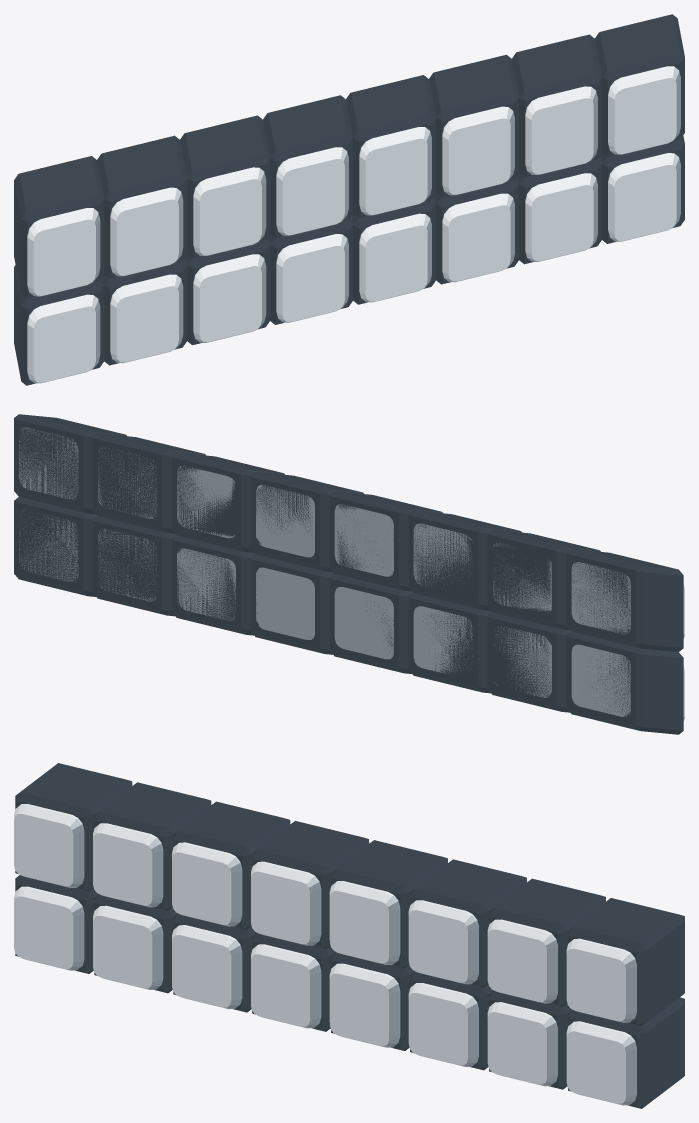
The model's file is Terrain_Block8x2.gltf.
The picture shows the model from 3 angles, top to bottom: view 1: azimuth 30°, elevation 25°; view 2: azimuth 150°, elevation 25°; view 3: azimuth 330°, elevation 25°; orthographic projection. The views are drawn at different scales.
Visible parts, largest first — view 1: Terrain_Block8x2_baked; view 2: Terrain_Block8x2_baked; view 3: Terrain_Block8x2_baked.
Part boxes in pixels (x1,y1,x2,y2): Terrain_Block8x2_baked: (14,14,684,385); Terrain_Block8x2_baked: (14,414,684,734); Terrain_Block8x2_baked: (14,763,684,1108).
Bounding box in the file's own units: 8.2 × 2.2 × 0.7.
